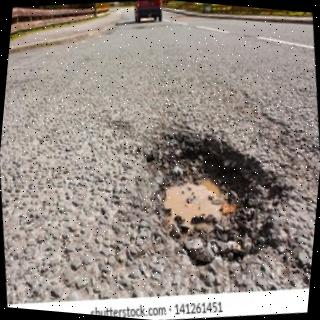pothole: (147, 138, 284, 266)
